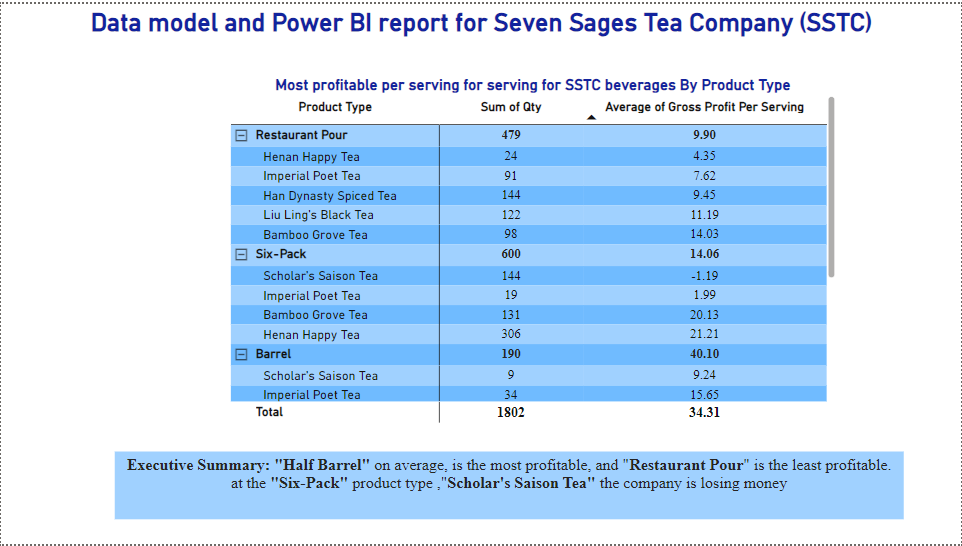

The dashboard page shown, as its layout file describes it:
{"tool":"powerbi","page":{"name":"SO1 - Product Type","canvas":[1280,720],"ordinal":2},"visuals":[{"type":"pivotTable","title":"Most profitable per serving for SSTC beverages By Product Type","fields":{"Values":["Sum(Monthly Sales Logs.Qty)","Avg(Monthly Sales Logs.Gross Profit Per Serving)"],"Rows":["Product.Product Type","Product.ProductName"]},"box":[301.7,95,815,468.3],"z":0},{"type":"textbox","box":[151.7,596.7,1051.7,90],"z":1000},{"type":"textbox","box":[0,0,1280,95],"z":2000}]}

Visuals, with their boxes in screenshot pixels (x1, y1, x2, y2), scaled from the page's 1280x720 canvas onto the 962x546 screenshot:
"Most profitable per serving for SSTC beverages By Product Type" pivotTable: [227,72,839,427]
textbox: [114,452,904,521]
textbox: [0,0,961,72]
